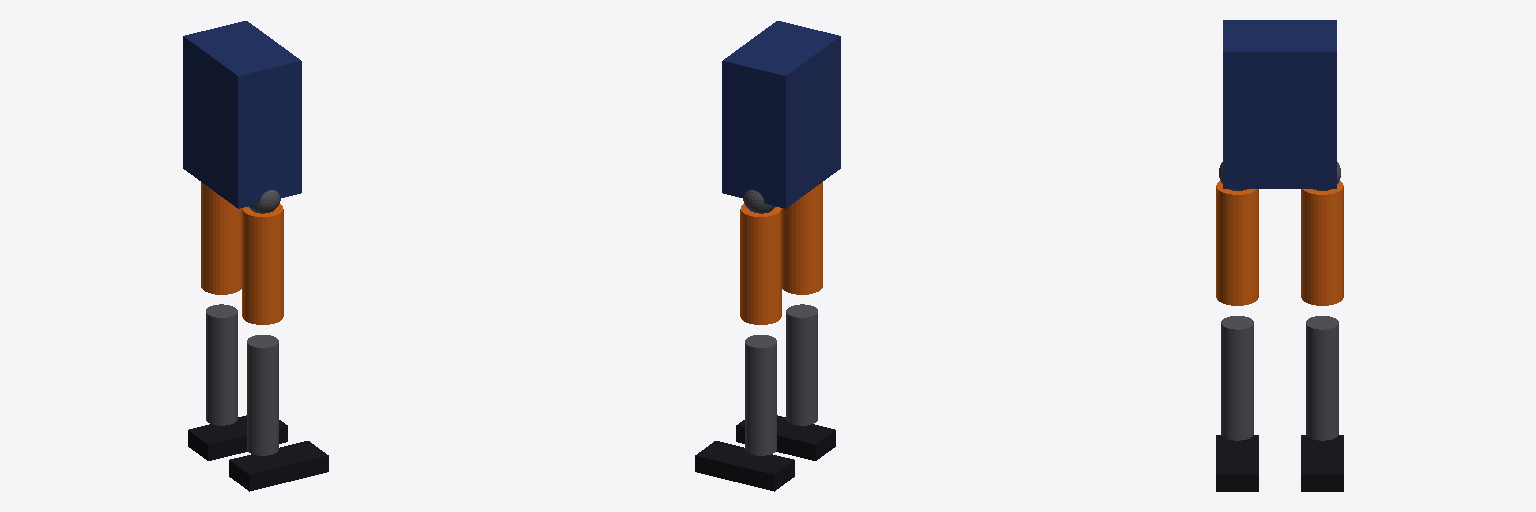
URDF robot description (biped):
<?xml version="1.0"?>
<robot name="biped">
  <material name="navy"><color rgba="0.16 0.22 0.42 1"/></material>
  <material name="orange"><color rgba="0.85 0.42 0.12 1"/></material>
  <material name="grey"><color rgba="0.35 0.35 0.38 1"/></material>
  <material name="dark"><color rgba="0.12 0.12 0.14 1"/></material>
  <link name="torso">
    <visual><origin xyz="0.0000 0 0.1600"/><geometry><box size="0.16 0.24 0.32"/></geometry><material name="navy"/></visual>
    <collision><origin xyz="0.0000 0 0.1600"/><geometry><box size="0.16 0.24 0.32"/></geometry></collision>
    <inertial><origin xyz="0.0000 0 0.1600"/><mass value="6.0"/><inertia ixx="8.00000e-02" iyy="6.40000e-02" izz="4.16000e-02" ixy="0" ixz="0" iyz="0"/></inertial>
  </link>
  <link name="L_hip_yaw_link">
    <visual><geometry><sphere radius="0.04"/></geometry><material name="grey"/></visual>
    <inertial><origin xyz='0 0 0'/><mass value="0.15"/><inertia ixx="9.60000e-05" iyy="9.60000e-05" izz="9.60000e-05" ixy="0" ixz="0" iyz="0"/></inertial>
  </link>
  <link name="L_hip_roll_link">
    <visual><geometry><sphere radius="0.04"/></geometry><material name="grey"/></visual>
    <inertial><origin xyz='0 0 0'/><mass value="0.15"/><inertia ixx="9.60000e-05" iyy="9.60000e-05" izz="9.60000e-05" ixy="0" ixz="0" iyz="0"/></inertial>
  </link>
  <link name="L_thigh">
    <visual><origin xyz="0 0 -0.1600"/><geometry><cylinder radius="0.045" length="0.2600"/></geometry><material name="orange"/></visual>
    <collision><origin xyz="0 0 -0.1600"/><geometry><cylinder radius="0.045" length="0.2600"/></geometry></collision>
    <inertial><origin xyz="0 0 -0.1600"/><mass value="2.0"/><inertia ixx="1.80792e-02" iyy="1.80792e-02" izz="2.02500e-03" ixy="0" ixz="0" iyz="0"/></inertial>
  </link>
  <link name="L_shank">
    <visual><origin xyz="0 0 -0.1600"/><geometry><cylinder radius="0.035" length="0.2600"/></geometry><material name="grey"/></visual>
    <collision><origin xyz="0 0 -0.1600"/><geometry><cylinder radius="0.035" length="0.2600"/></geometry></collision>
    <inertial><origin xyz="0 0 -0.1600"/><mass value="1.5"/><inertia ixx="1.32594e-02" iyy="1.32594e-02" izz="9.18750e-04" ixy="0" ixz="0" iyz="0"/></inertial>
  </link>
  <link name="L_foot">
    <visual><origin xyz="0.0400 0 -0.0200"/><geometry><box size="0.2 0.09 0.04"/></geometry><material name="dark"/></visual>
    <collision><origin xyz="0.0400 0 -0.0200"/><geometry><box size="0.2 0.09 0.04"/></geometry></collision>
    <inertial><origin xyz="0.0400 0 -0.0200"/><mass value="0.6"/><inertia ixx="4.85000e-04" iyy="2.08000e-03" izz="2.40500e-03" ixy="0" ixz="0" iyz="0"/></inertial>
  </link>
  <joint name="L_hip_yaw" type="revolute">
    <parent link="torso"/><child link="L_hip_yaw_link"/>
    <origin xyz="0 0.0900 0"/><axis xyz="0 0 1"/>
    <limit lower="-0.6" upper="0.6" effort="50.0" velocity="12.0"/>
  </joint>
  <joint name="L_hip_roll" type="revolute">
    <parent link="L_hip_yaw_link"/><child link="L_hip_roll_link"/>
    <origin xyz="0 0 0"/><axis xyz="1 0 0"/>
    <limit lower="-0.5" upper="0.5" effort="100.0" velocity="12.0"/>
  </joint>
  <joint name="L_hip_pitch" type="revolute">
    <parent link="L_hip_roll_link"/><child link="L_thigh"/>
    <origin xyz="0 0 0"/><axis xyz="0 1 0"/>
    <limit lower="-1.5" upper="1.0" effort="150.0" velocity="15.0"/>
  </joint>
  <joint name="L_knee" type="revolute">
    <parent link="L_thigh"/><child link="L_shank"/>
    <origin xyz="0 0 -0.3200"/><axis xyz="0 1 0"/>
    <limit lower="0.0" upper="2.2" effort="150.0" velocity="15.0"/>
  </joint>
  <joint name="L_ankle" type="revolute">
    <parent link="L_shank"/><child link="L_foot"/>
    <origin xyz="0 0 -0.3200"/><axis xyz="0 1 0"/>
    <limit lower="-0.8" upper="0.8" effort="80.0" velocity="15.0"/>
  </joint>
  <link name="R_hip_yaw_link">
    <visual><geometry><sphere radius="0.04"/></geometry><material name="grey"/></visual>
    <inertial><origin xyz='0 0 0'/><mass value="0.15"/><inertia ixx="9.60000e-05" iyy="9.60000e-05" izz="9.60000e-05" ixy="0" ixz="0" iyz="0"/></inertial>
  </link>
  <link name="R_hip_roll_link">
    <visual><geometry><sphere radius="0.04"/></geometry><material name="grey"/></visual>
    <inertial><origin xyz='0 0 0'/><mass value="0.15"/><inertia ixx="9.60000e-05" iyy="9.60000e-05" izz="9.60000e-05" ixy="0" ixz="0" iyz="0"/></inertial>
  </link>
  <link name="R_thigh">
    <visual><origin xyz="0 0 -0.1600"/><geometry><cylinder radius="0.045" length="0.2600"/></geometry><material name="orange"/></visual>
    <collision><origin xyz="0 0 -0.1600"/><geometry><cylinder radius="0.045" length="0.2600"/></geometry></collision>
    <inertial><origin xyz="0 0 -0.1600"/><mass value="2.0"/><inertia ixx="1.80792e-02" iyy="1.80792e-02" izz="2.02500e-03" ixy="0" ixz="0" iyz="0"/></inertial>
  </link>
  <link name="R_shank">
    <visual><origin xyz="0 0 -0.1600"/><geometry><cylinder radius="0.035" length="0.2600"/></geometry><material name="grey"/></visual>
    <collision><origin xyz="0 0 -0.1600"/><geometry><cylinder radius="0.035" length="0.2600"/></geometry></collision>
    <inertial><origin xyz="0 0 -0.1600"/><mass value="1.5"/><inertia ixx="1.32594e-02" iyy="1.32594e-02" izz="9.18750e-04" ixy="0" ixz="0" iyz="0"/></inertial>
  </link>
  <link name="R_foot">
    <visual><origin xyz="0.0400 0 -0.0200"/><geometry><box size="0.2 0.09 0.04"/></geometry><material name="dark"/></visual>
    <collision><origin xyz="0.0400 0 -0.0200"/><geometry><box size="0.2 0.09 0.04"/></geometry></collision>
    <inertial><origin xyz="0.0400 0 -0.0200"/><mass value="0.6"/><inertia ixx="4.85000e-04" iyy="2.08000e-03" izz="2.40500e-03" ixy="0" ixz="0" iyz="0"/></inertial>
  </link>
  <joint name="R_hip_yaw" type="revolute">
    <parent link="torso"/><child link="R_hip_yaw_link"/>
    <origin xyz="0 -0.0900 0"/><axis xyz="0 0 1"/>
    <limit lower="-0.6" upper="0.6" effort="50.0" velocity="12.0"/>
  </joint>
  <joint name="R_hip_roll" type="revolute">
    <parent link="R_hip_yaw_link"/><child link="R_hip_roll_link"/>
    <origin xyz="0 0 0"/><axis xyz="1 0 0"/>
    <limit lower="-0.5" upper="0.5" effort="100.0" velocity="12.0"/>
  </joint>
  <joint name="R_hip_pitch" type="revolute">
    <parent link="R_hip_roll_link"/><child link="R_thigh"/>
    <origin xyz="0 0 0"/><axis xyz="0 1 0"/>
    <limit lower="-1.5" upper="1.0" effort="150.0" velocity="15.0"/>
  </joint>
  <joint name="R_knee" type="revolute">
    <parent link="R_thigh"/><child link="R_shank"/>
    <origin xyz="0 0 -0.3200"/><axis xyz="0 1 0"/>
    <limit lower="0.0" upper="2.2" effort="150.0" velocity="15.0"/>
  </joint>
  <joint name="R_ankle" type="revolute">
    <parent link="R_shank"/><child link="R_foot"/>
    <origin xyz="0 0 -0.3200"/><axis xyz="0 1 0"/>
    <limit lower="-0.8" upper="0.8" effort="80.0" velocity="15.0"/>
  </joint>
</robot>

--- Render facts (derived) ---
Views: 3 orthographic renders of the robot side by side, from view 1: azimuth 30°, elevation 25°; view 2: azimuth 150°, elevation 25°; view 3: azimuth 270°, elevation 25°.
Model biped with 11 links and 10 joints (10 revolute), rooted at torso, posed all joints at 0.
Visible links, largest first — view 1: torso, R_thigh, L_thigh, L_shank, R_shank, R_foot, L_foot; view 2: torso, L_thigh, R_thigh, R_shank, L_shank, L_foot, R_foot; view 3: torso, L_thigh, R_thigh, L_shank, R_shank, L_foot, R_foot.
Boxes of the visible links, left/top/right/bottom form: torso: left=183, top=21, right=301, bottom=208; R_thigh: left=242, top=204, right=283, bottom=324; L_thigh: left=201, top=182, right=241, bottom=294; L_shank: left=206, top=304, right=237, bottom=425; R_shank: left=247, top=335, right=278, bottom=455; R_foot: left=229, top=441, right=328, bottom=491; L_foot: left=188, top=415, right=287, bottom=460; torso: left=722, top=21, right=840, bottom=208; L_thigh: left=740, top=204, right=781, bottom=324; R_thigh: left=782, top=182, right=822, bottom=294; R_shank: left=786, top=304, right=817, bottom=425; L_shank: left=745, top=335, right=776, bottom=455; L_foot: left=695, top=441, right=794, bottom=491; R_foot: left=736, top=415, right=835, bottom=460; torso: left=1223, top=20, right=1336, bottom=188; L_thigh: left=1301, top=181, right=1343, bottom=305; R_thigh: left=1216, top=181, right=1258, bottom=305; L_shank: left=1306, top=316, right=1338, bottom=440; R_shank: left=1221, top=316, right=1253, bottom=440; L_foot: left=1301, top=435, right=1343, bottom=491; R_foot: left=1216, top=435, right=1258, bottom=491.
Bounding box of the posed robot: 0.22 × 0.27 × 1 m (x, y, z).
Geometry: primitives only (box / cylinder / sphere), no mesh files.
